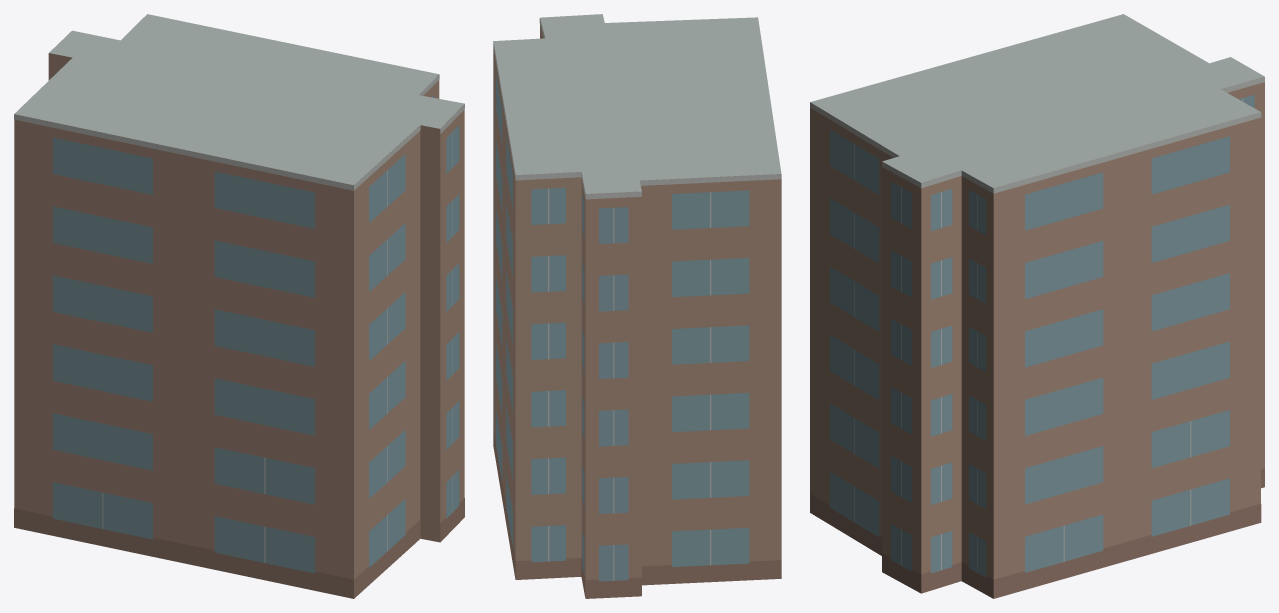
File: survey-upis-32814334.glb
The picture shows the model from 3 angles, left to right: view 1: azimuth 30°, elevation 25°; view 2: azimuth 150°, elevation 25°; view 3: azimuth 270°, elevation 25°; orthographic projection. The views are drawn at different scales.
Parts seen in each view (by area): view 1: survey-upis-32814334.tmp; view 2: survey-upis-32814334.tmp; view 3: survey-upis-32814334.tmp.
Boxes of the visible parts, left/top/right/bottom form: survey-upis-32814334.tmp: left=14, top=14, right=464, bottom=598; survey-upis-32814334.tmp: left=493, top=14, right=781, bottom=598; survey-upis-32814334.tmp: left=810, top=14, right=1264, bottom=598.
Bounding box in the file's own units: 16.76 × 18.4 × 18.48.
